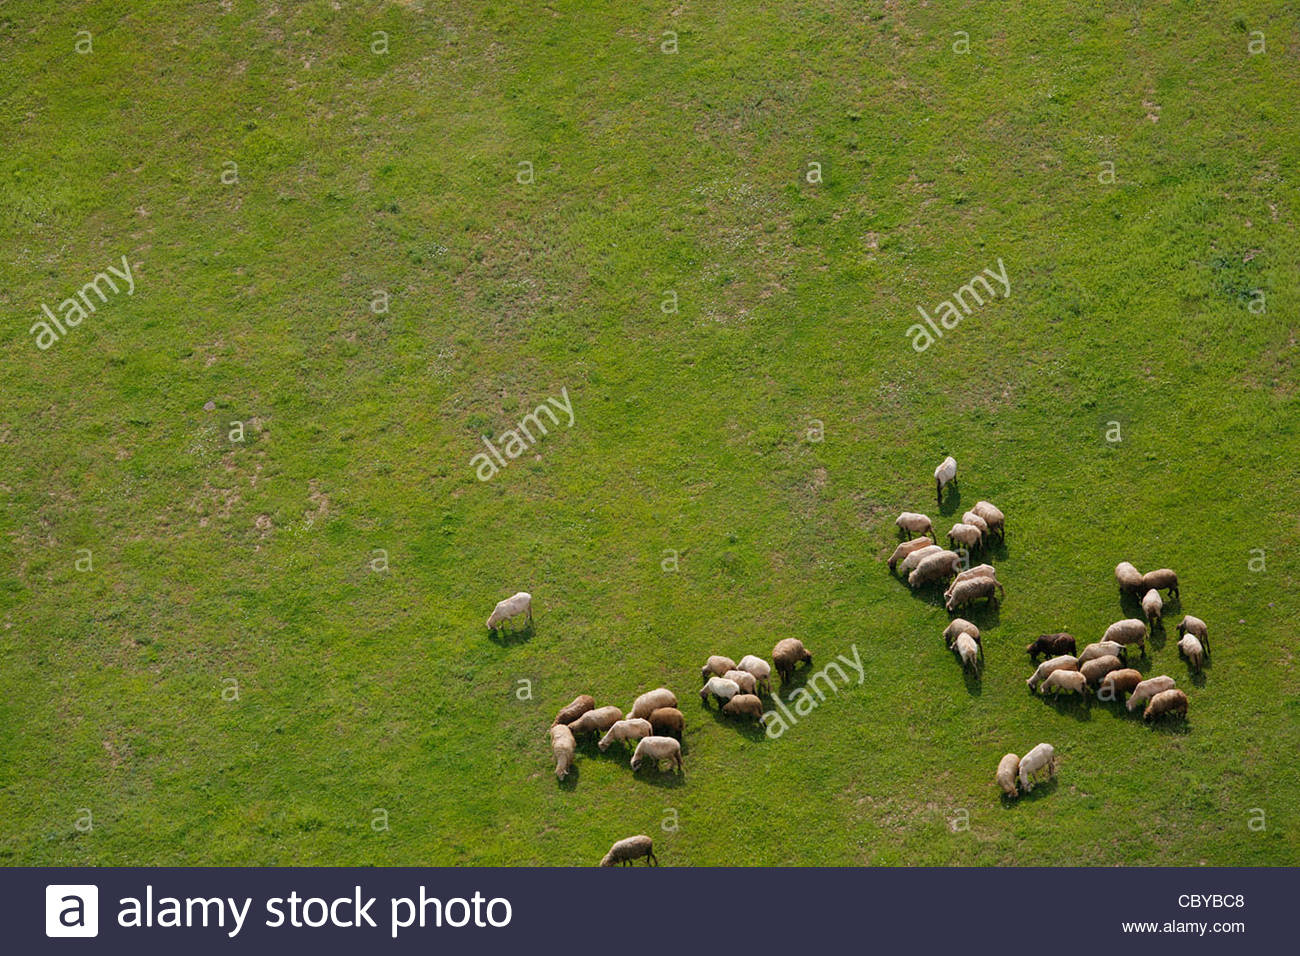sheep: (628, 734, 685, 781), (484, 590, 535, 643), (906, 548, 962, 594), (945, 576, 1002, 619), (771, 634, 816, 688), (1026, 652, 1079, 698), (1019, 740, 1057, 796), (1100, 618, 1150, 660), (598, 717, 652, 755), (947, 630, 984, 684), (628, 687, 680, 724), (719, 689, 767, 729), (1037, 668, 1088, 705), (549, 723, 577, 786), (885, 533, 933, 570), (1139, 564, 1184, 602), (1114, 559, 1150, 606), (697, 674, 740, 713), (1142, 688, 1190, 722), (942, 616, 982, 654), (931, 454, 966, 498), (947, 520, 982, 561), (1100, 667, 1143, 701), (570, 714, 622, 741), (996, 752, 1022, 796), (1178, 633, 1205, 672)
